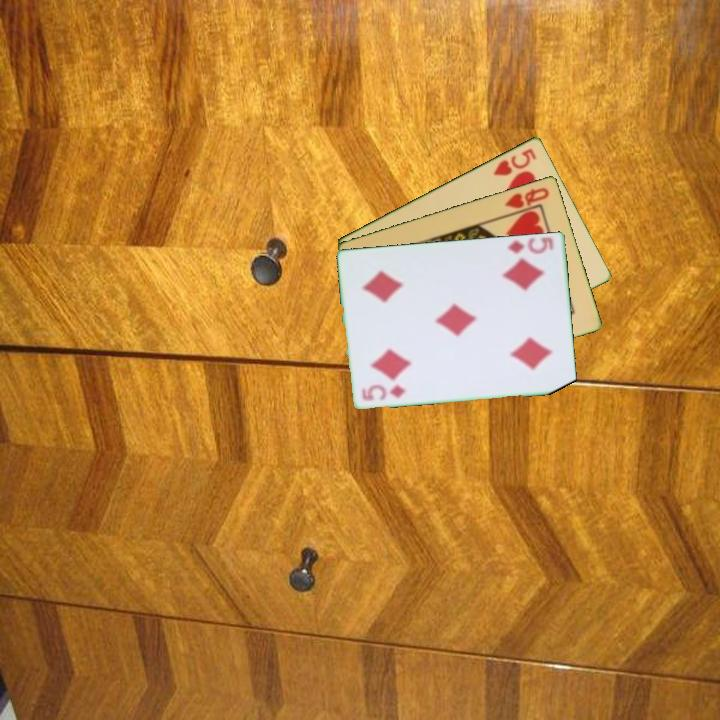5d: (504, 233, 556, 257), (359, 381, 410, 404)
5h: (490, 144, 539, 178)
Qh: (501, 184, 552, 211)
